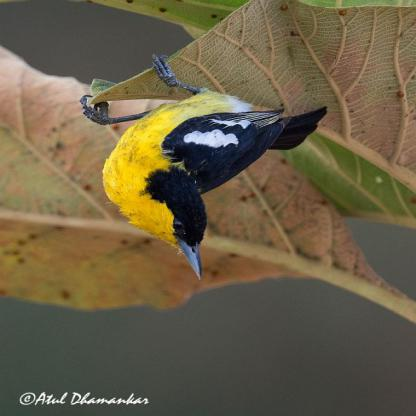Burung: (80, 53, 326, 279)
